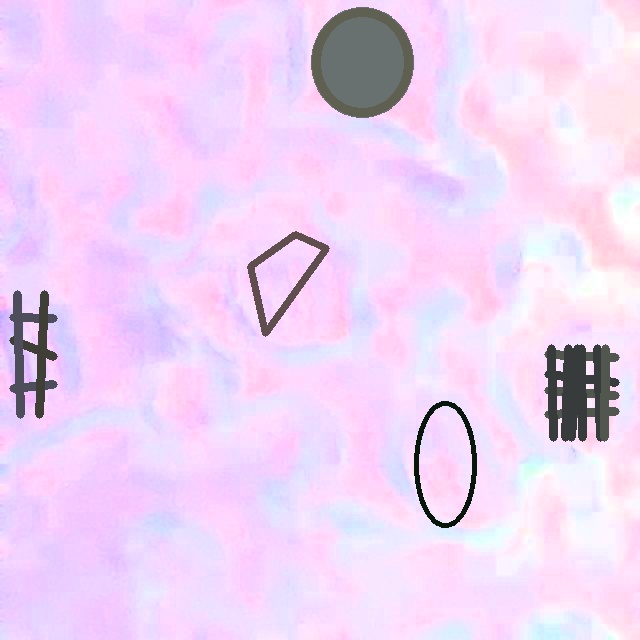close: (311, 7, 413, 118), (247, 231, 329, 336), (413, 400, 477, 528)
open: (544, 344, 619, 441), (9, 290, 57, 418)
